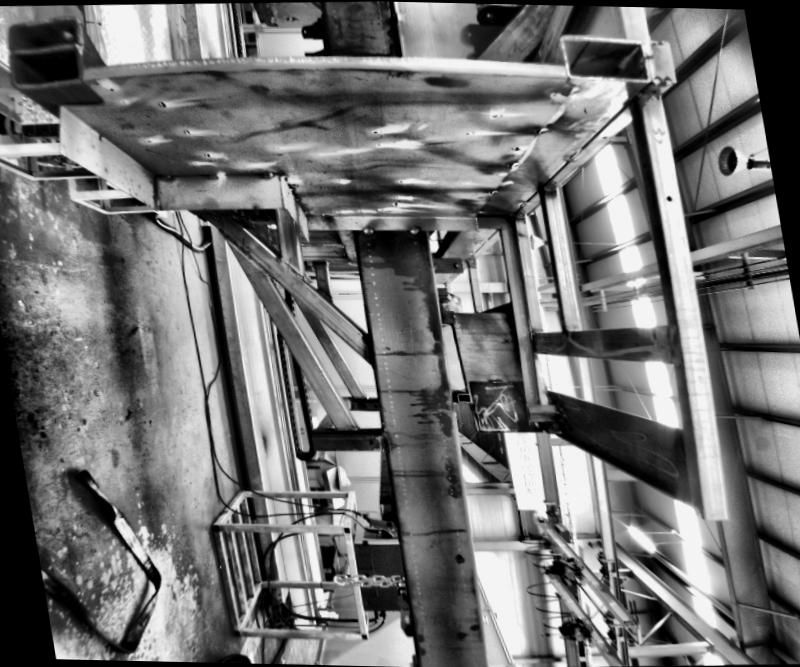hole: (632, 338, 640, 346), (664, 192, 672, 199), (454, 551, 461, 558), (368, 437, 374, 443)
welding: (198, 166, 225, 181), (154, 167, 174, 180), (404, 223, 423, 233), (255, 168, 274, 176), (360, 223, 372, 234)
